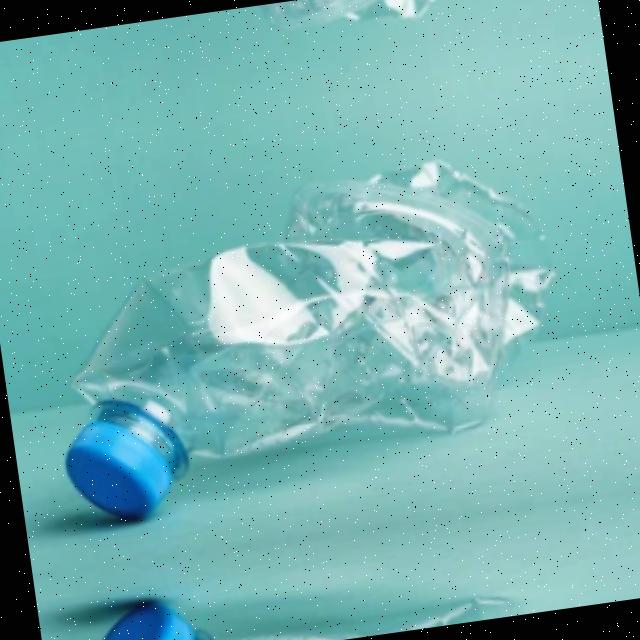Plastic: (0, 78, 625, 545), (0, 0, 568, 139), (49, 519, 640, 640)
